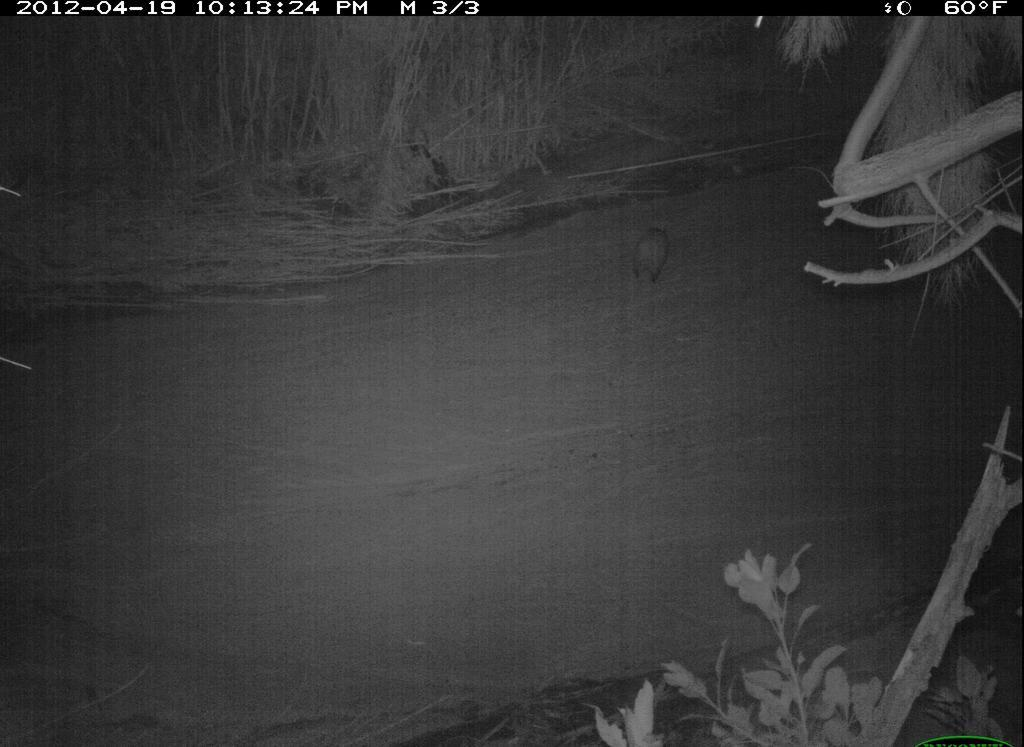opossum: (620, 210, 684, 299)
